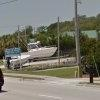Boat: (7, 44, 57, 69)
